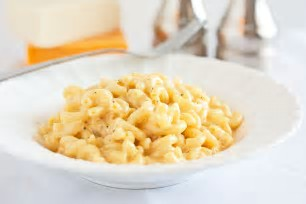macncheese: (37, 72, 246, 166)
